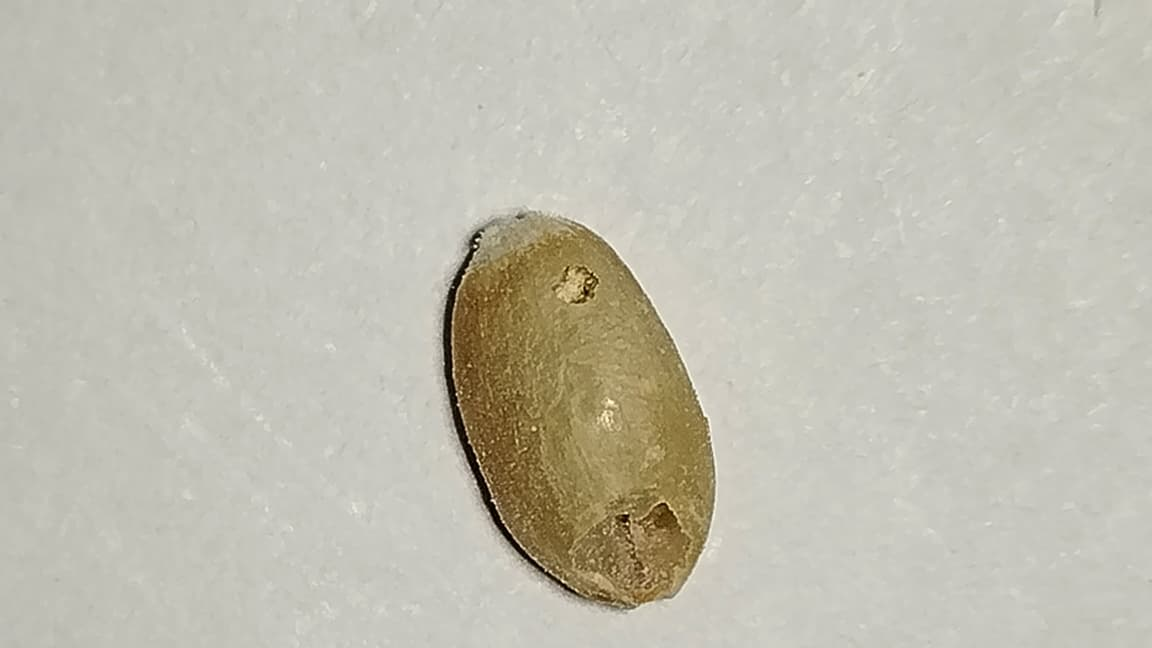damage: (450, 211, 714, 605)
insectdamage: (569, 492, 691, 589), (536, 266, 620, 321)
